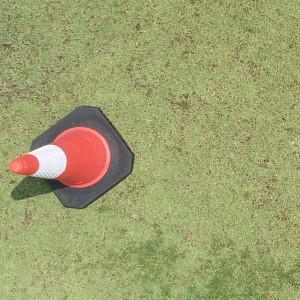traffic cone: (10, 105, 133, 208)
